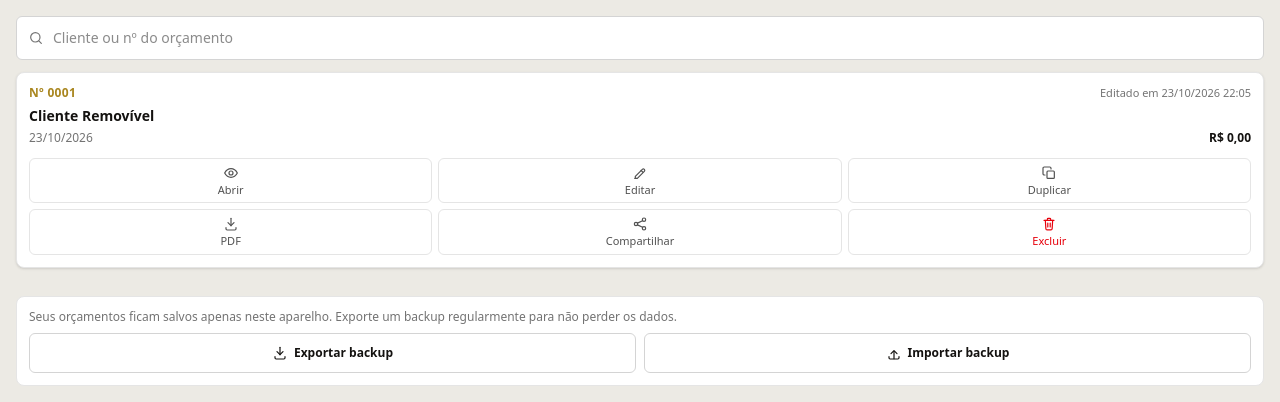
Test case: HistoryScreen › excluir pede confirmação antes de remover o orçamento
Later steps or results of the test are not shown.
Click the button "Excluir".
click(1049, 232)  # box top-left (848, 209), bottom-right (1251, 255)
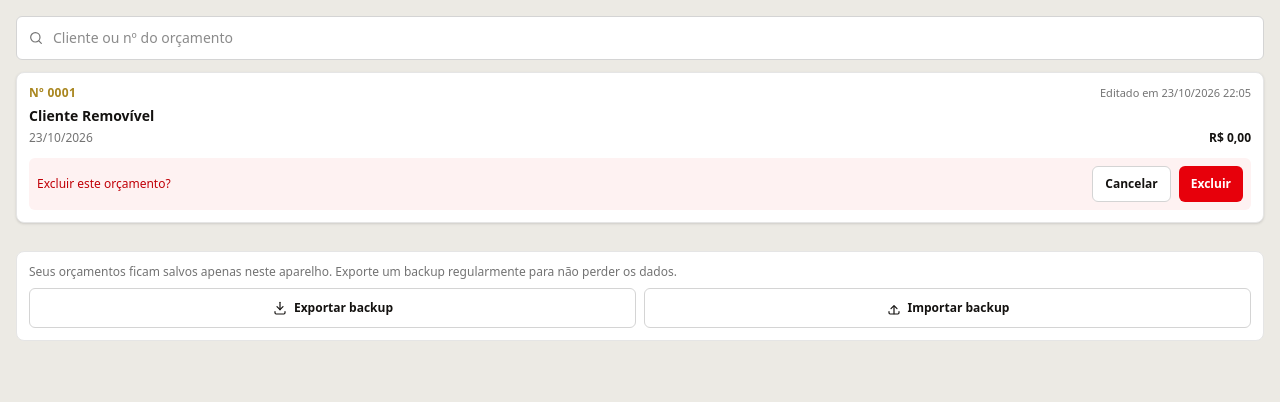
Check: the text "Excluir este orçamento?" is shown, box top-left (37, 174), bottom-right (171, 192)
